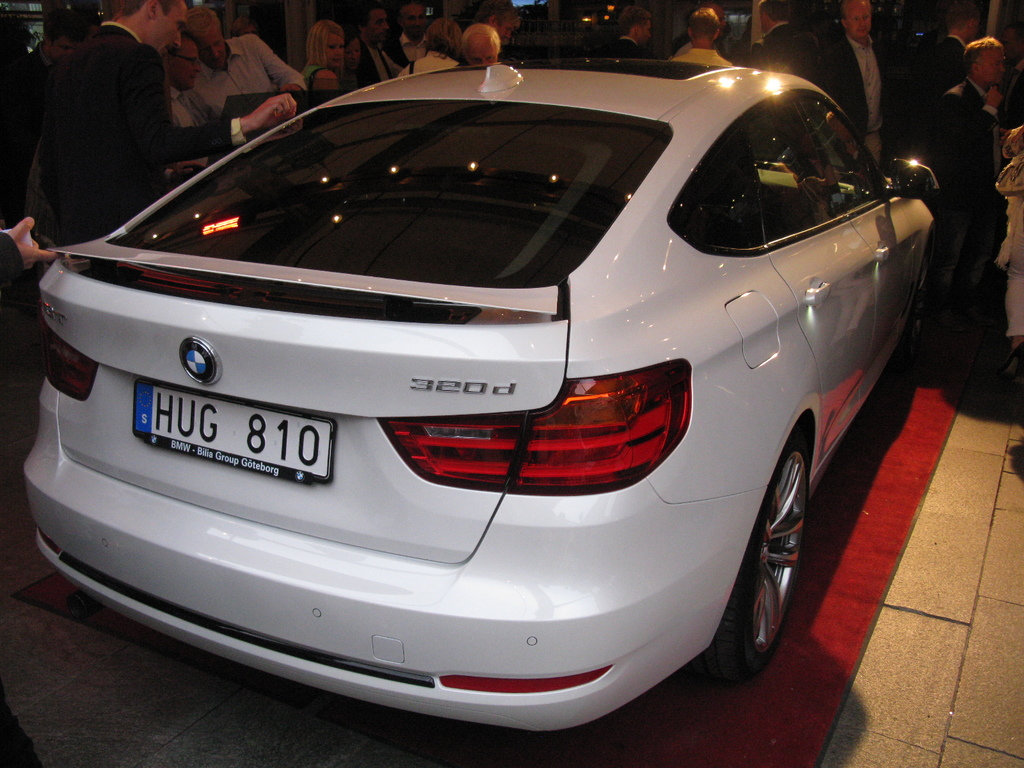Car: (22, 55, 937, 732)
